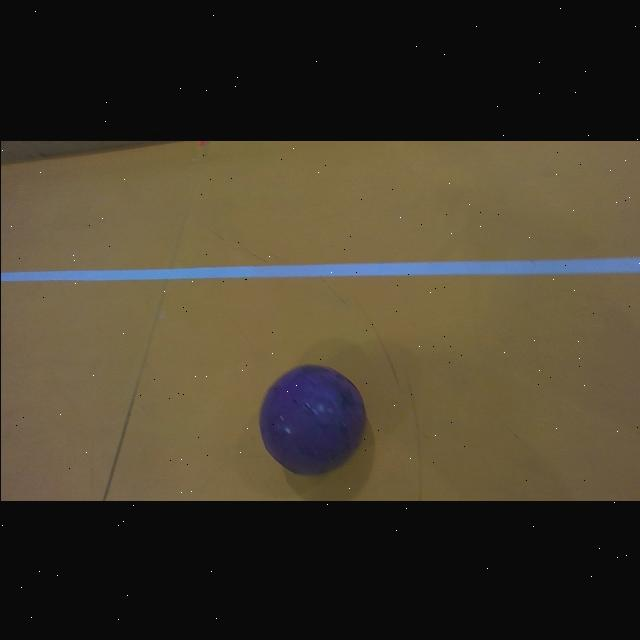P: (259, 365, 365, 474)
